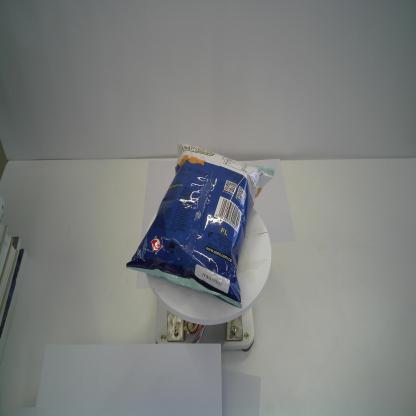Puffed Food: (125, 139, 276, 310)
